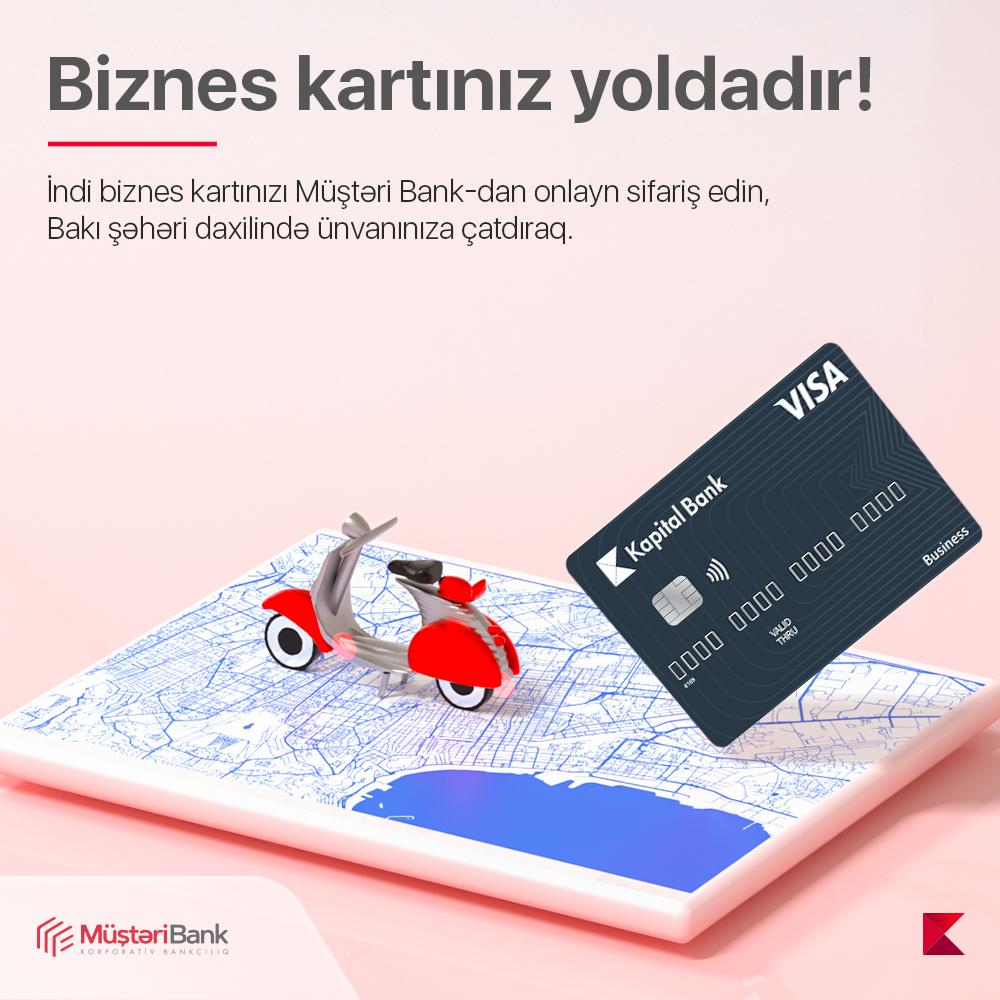Kapital Bank: (920, 912, 967, 958), (592, 544, 638, 589)
